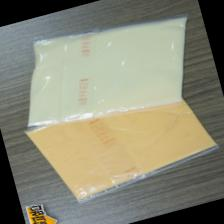cheese: (5, 2, 205, 142), (24, 80, 224, 211)
